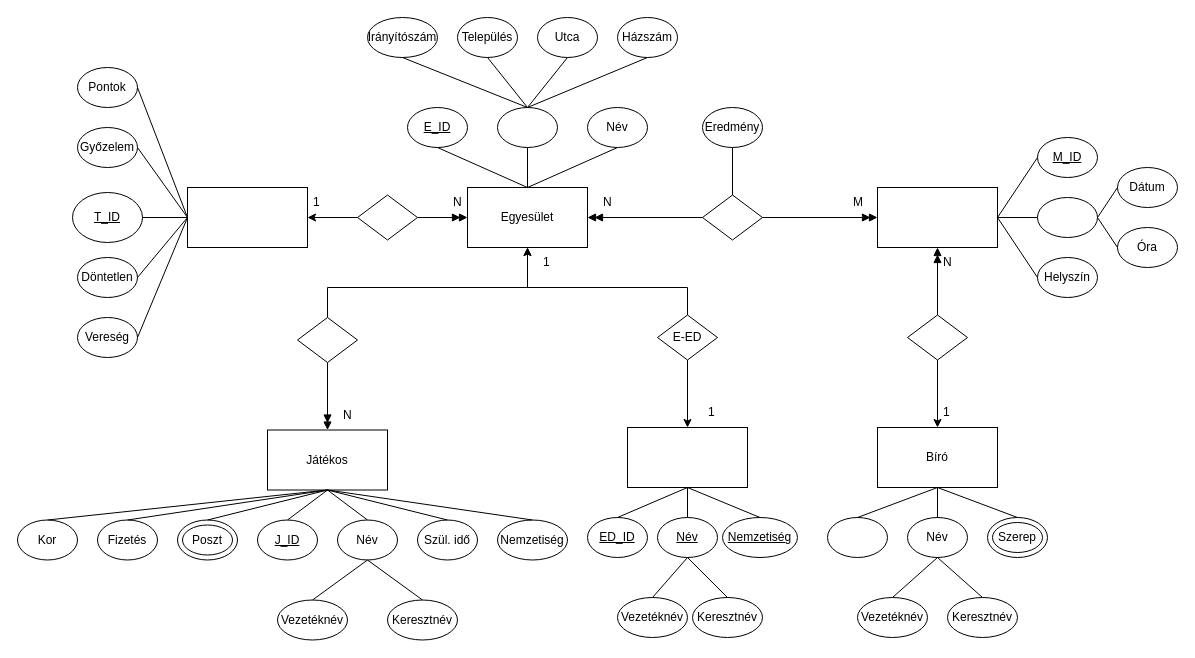
This 1195x658 diagram has some shape labels left out. Here are the shapes that lost their labels. From the top down, the centre of each, then its label:
At [527,127]: "Cím".
At [247,217]: "Tabella".
At [387,217]: "T-E".
At [732,217]: "Játszik".
At [937,217]: "Mérkőzés".
At [1067,217]: "Időpont".
At [327,339]: "E-J".
At [937,337]: "E-M".
At [687,457]: "Edző".
At [857,537]: "B_ID".
